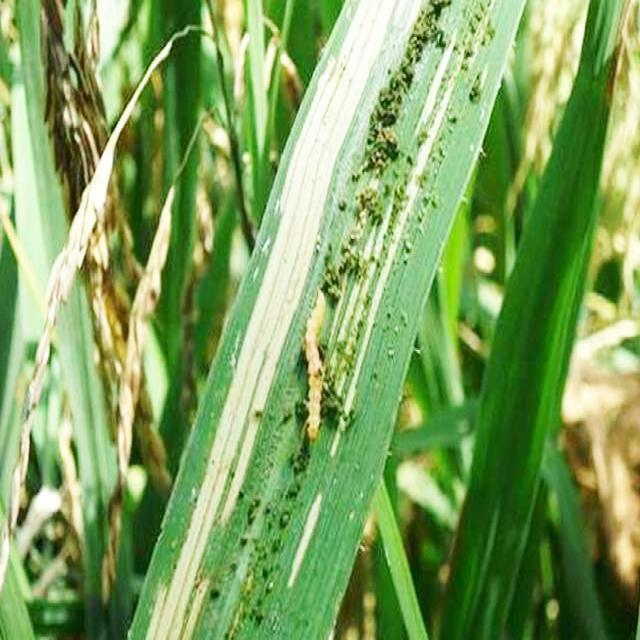leaf-folder: (294, 285, 350, 467)
